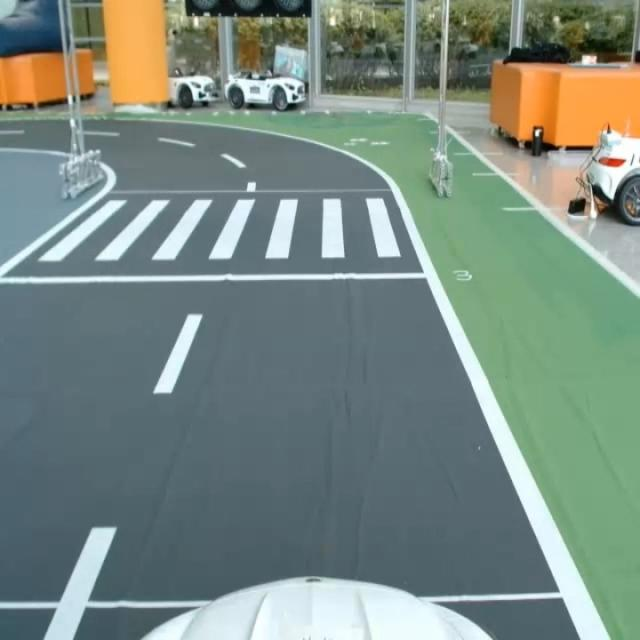traffic-light: (183, 0, 317, 23)
